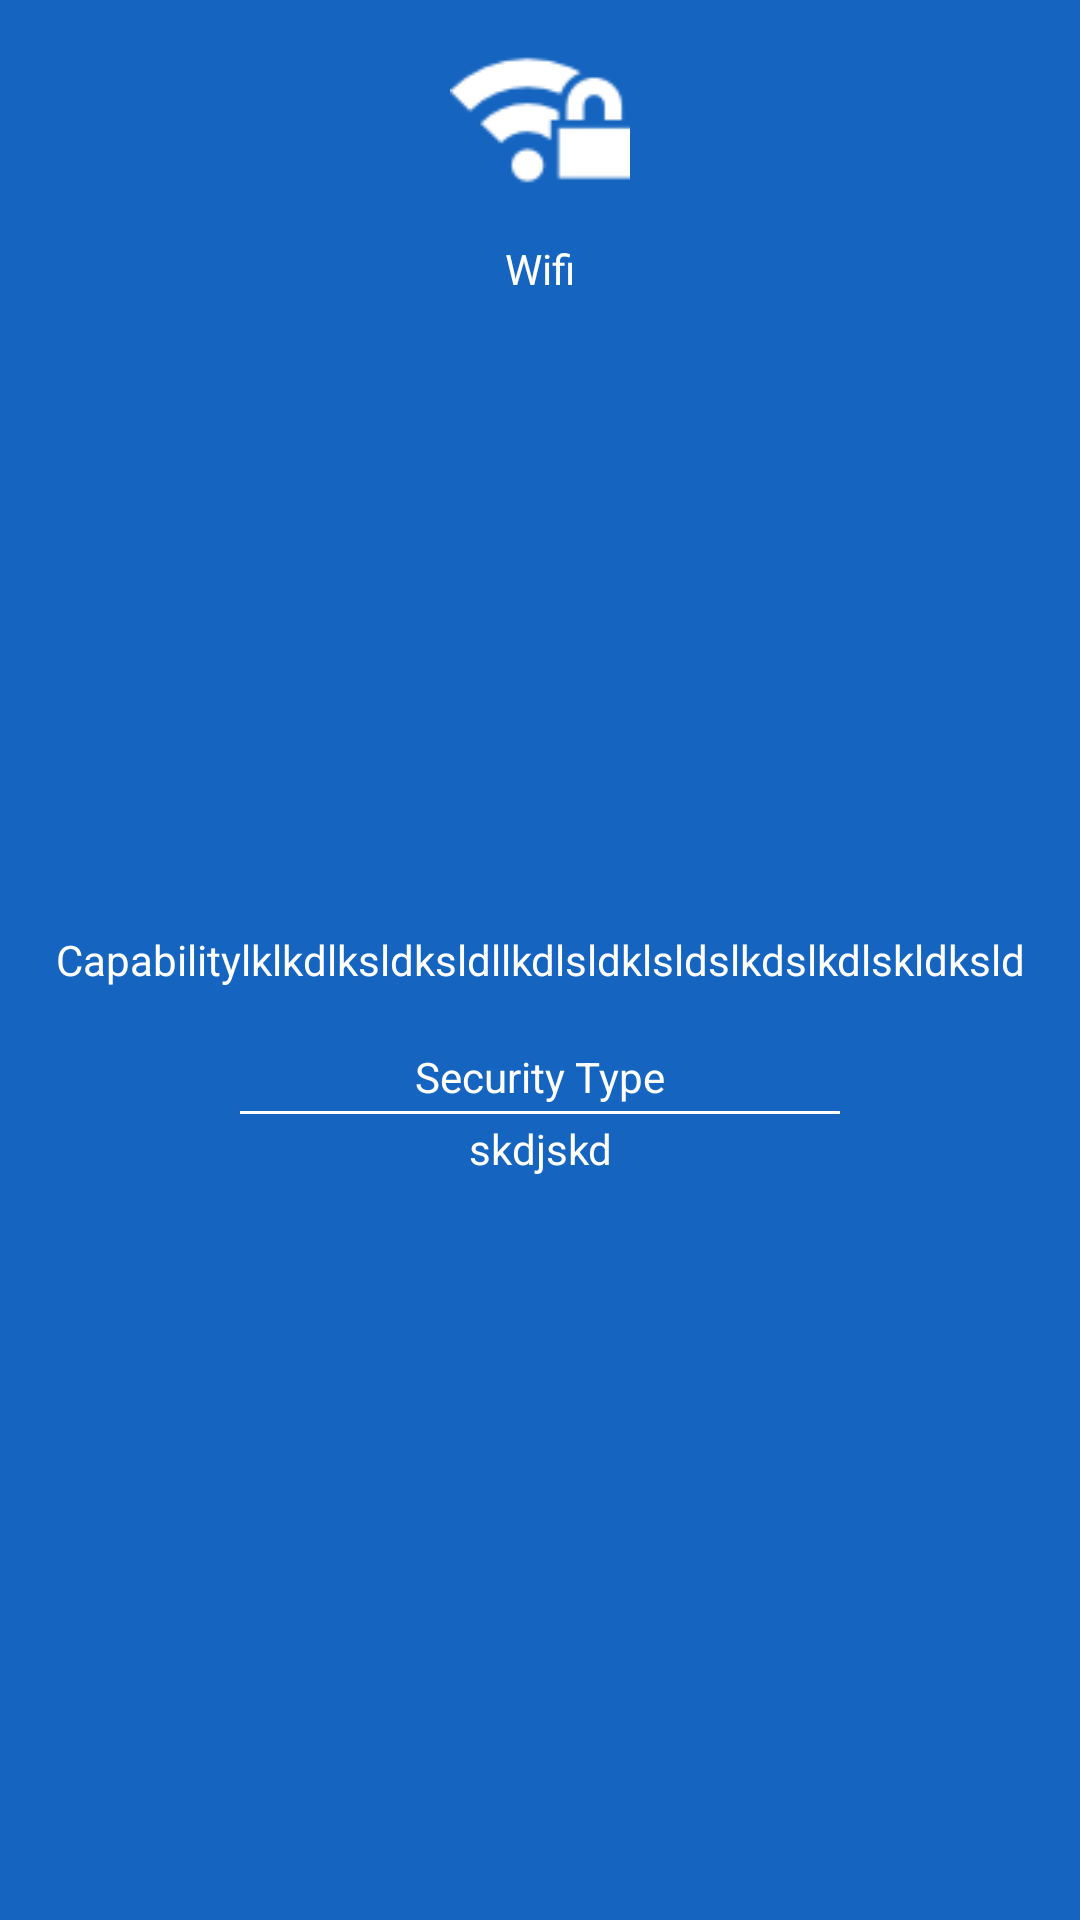

Named icons in this screenshot (1080×1920) and their centers, [x,y]:
closed network: [540,120]
